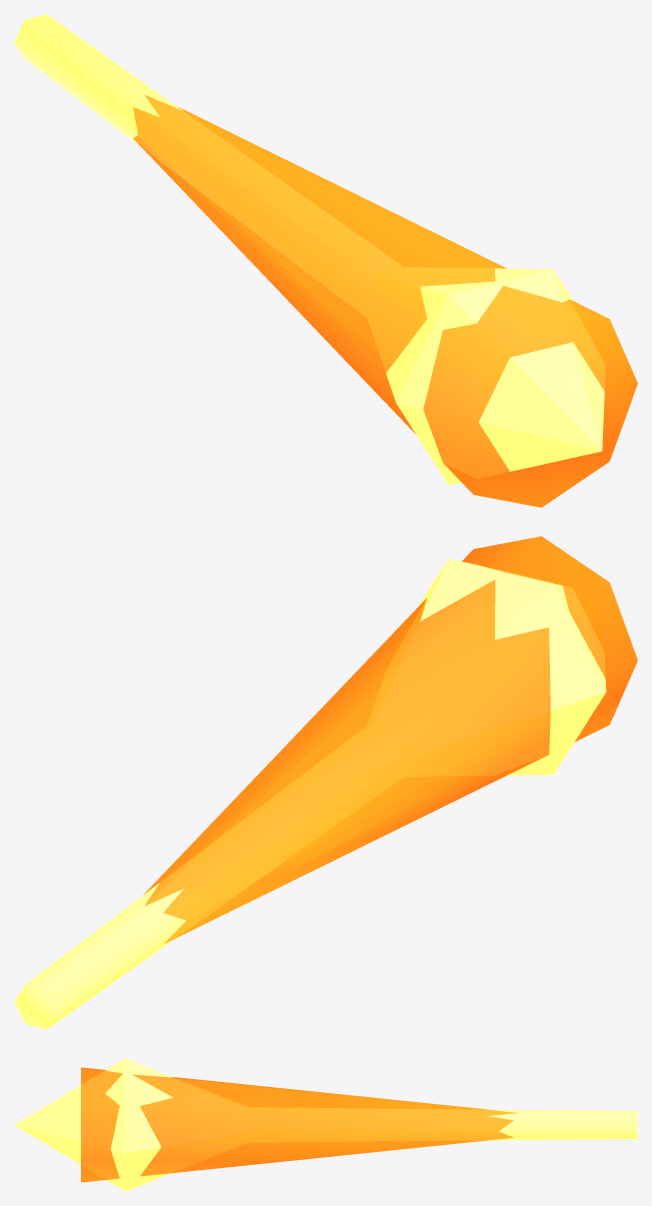
Rendered from fx_bolt_x.glb.
The picture shows the model from 3 angles, top to bottom: view 1: azimuth 30°, elevation 25°; view 2: azimuth 150°, elevation 25°; view 3: azimuth 270°, elevation 25°; orthographic projection. The views are drawn at different scales.
Visible parts, largest first — view 1: fx_bolt_x; view 2: fx_bolt_x; view 3: fx_bolt_x.
Part boxes in pixels (left/top/right/bottom): fx_bolt_x: left=14, top=14, right=637, bottom=507; fx_bolt_x: left=14, top=536, right=637, bottom=1029; fx_bolt_x: left=14, top=1058, right=637, bottom=1191.
Bounding box in the file's own units: 0.24 × 0.22 × 1.12.
